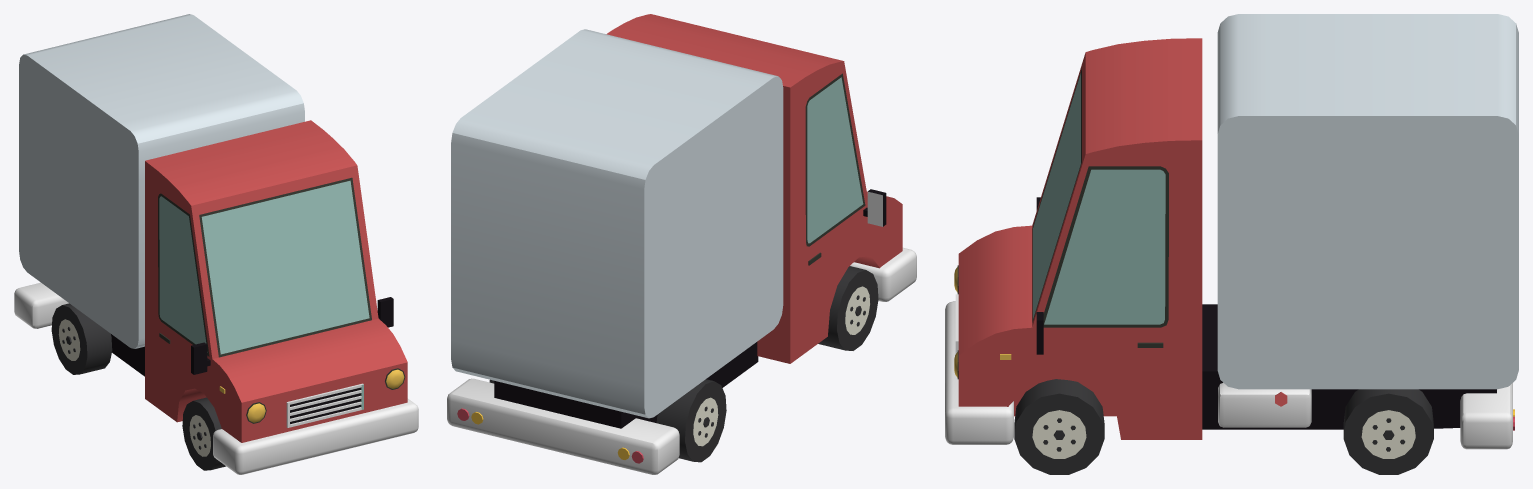
File: Truck3.fbx
The picture shows the model from 3 angles, left to right: view 1: azimuth 30°, elevation 25°; view 2: azimuth 150°, elevation 25°; view 3: azimuth 270°, elevation 25°; orthographic projection. The views are drawn at different scales.
Parts seen in each view (by area): view 1: Truck3, RearRightWheel, FrontRightWheel; view 2: Truck3, RearRightWheel, FrontRightWheel; view 3: Truck3, FrontLeftWheel, RearLeftWheel.
Boxes of the visible parts, left/top/right/bottom form: Truck3: left=14, top=14, right=418, bottom=474; RearRightWheel: left=51, top=303, right=112, bottom=374; FrontRightWheel: left=182, top=397, right=225, bottom=470; Truck3: left=447, top=14, right=916, bottom=474; RearRightWheel: left=656, top=379, right=726, bottom=462; FrontRightWheel: left=818, top=266, right=878, bottom=350; Truck3: left=945, top=14, right=1518, bottom=449; FrontLeftWheel: left=1014, top=379, right=1104, bottom=474; RearLeftWheel: left=1343, top=389, right=1433, bottom=474.
Bounding box in the file's own units: 206 × 280 × 407.
